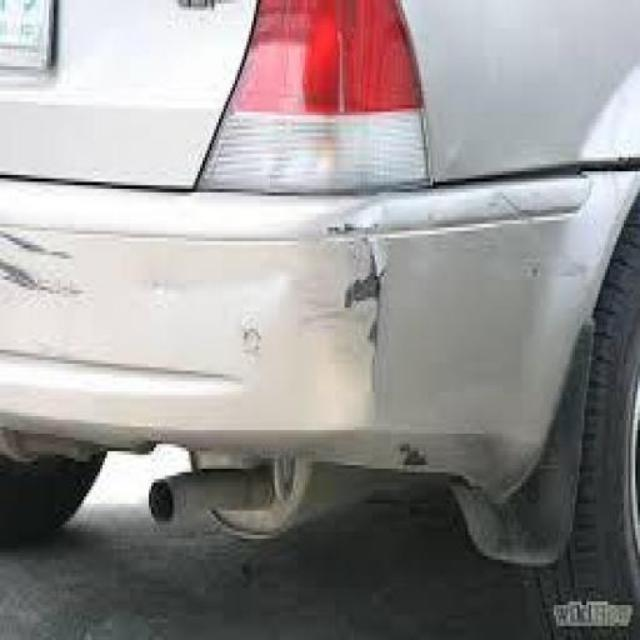rub: (278, 149, 636, 476), (137, 262, 293, 369), (3, 221, 89, 305)
